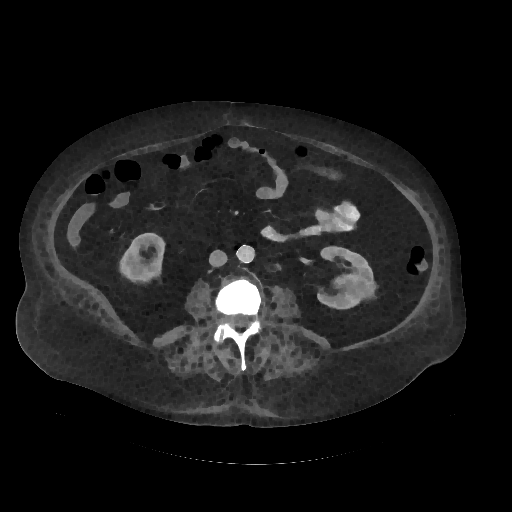Lesion: (342, 271, 380, 302)
